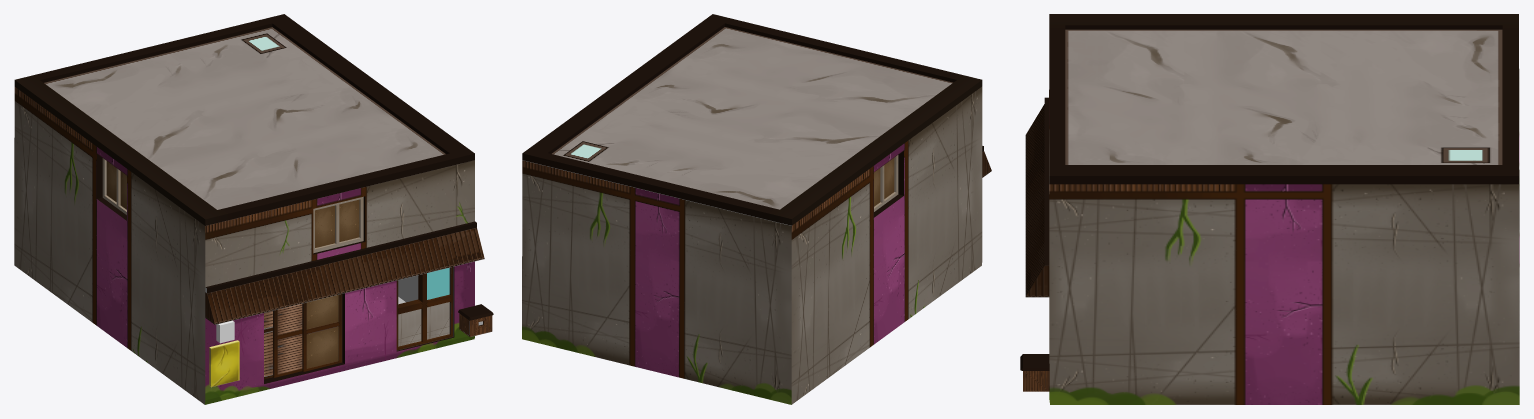
The model's file is House_4_Pink.fbx.
The picture shows the model from 3 angles, left to right: view 1: azimuth 30°, elevation 25°; view 2: azimuth 150°, elevation 25°; view 3: azimuth 270°, elevation 25°; orthographic projection. The views are drawn at different scales.
Visible parts, largest first — view 1: Cube.052, Cube.045, Cube.048, Cube.043, Cube.046, Cube.051, Cube.044, Cube.049, Cube.061; view 2: Cube.052, Cube.044; view 3: Cube.052, Cube.049.
Boxes of the visible parts, box(x1,y1,x2,y2) form: Cube.052: box(14, 14, 484, 404); Cube.045: box(396, 267, 453, 350); Cube.048: box(302, 294, 342, 371); Cube.043: box(313, 196, 363, 253); Cube.046: box(273, 303, 302, 377); Cube.051: box(209, 340, 239, 387); Cube.044: box(102, 158, 126, 214); Cube.049: box(458, 304, 493, 336); Cube.061: box(264, 311, 272, 379); Cube.052: box(522, 14, 991, 404); Cube.044: box(874, 155, 898, 211); Cube.052: box(1025, 14, 1519, 404); Cube.049: box(1020, 354, 1049, 391).
Bounding box in the file's own units: 893 × 571 × 1129.
